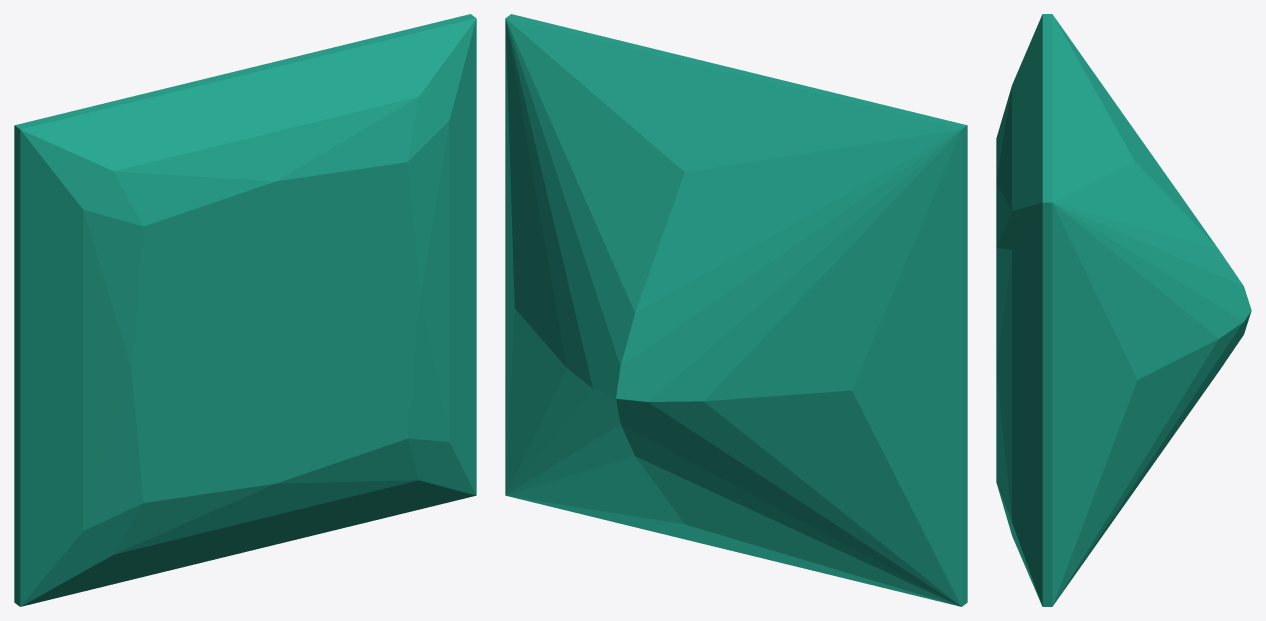
File: patricia.glb
The picture shows the model from 3 angles, left to right: view 1: azimuth 30°, elevation 25°; view 2: azimuth 150°, elevation 25°; view 3: azimuth 270°, elevation 25°; orthographic projection. The views are drawn at different scales.
Visible parts, largest first — view 1: Patricia; view 2: Patricia; view 3: Patricia.
Part boxes in pixels (<box>): Patricia: <box>14,14,476,606</box>; Patricia: <box>505,14,967,606</box>; Patricia: <box>996,14,1251,606</box>.
Bounding box in the file's own units: 2 × 2 × 1.14.
